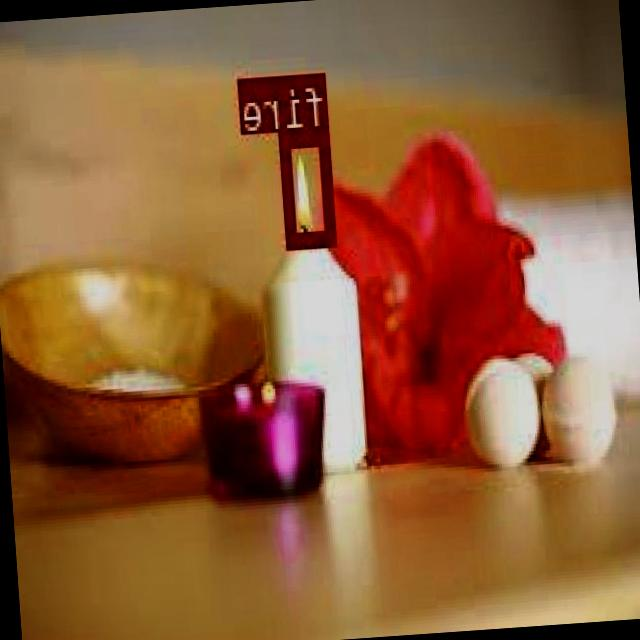fire: (282, 127, 337, 246)
